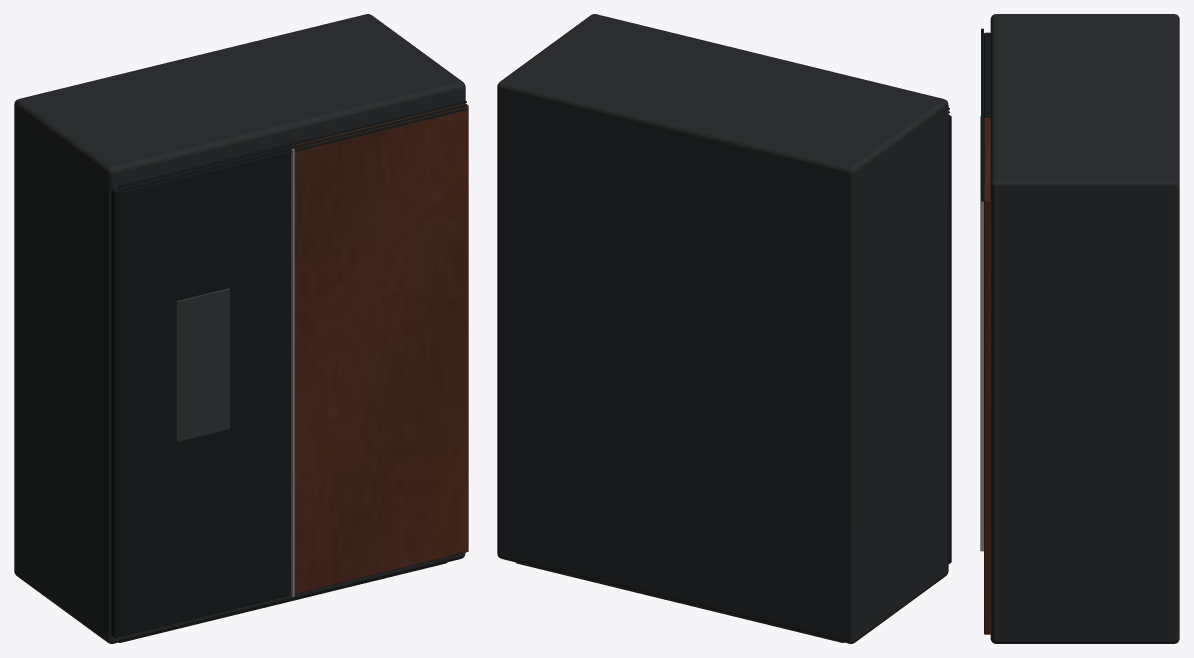
The model's file is nordica-floriana-idro-gres-gres-corten.glb.
3 views of the same model, side by side, from view 1: azimuth 30°, elevation 25°; view 2: azimuth 150°, elevation 25°; view 3: azimuth 270°, elevation 25° (orthographic). The views are drawn at different scales.
Visible parts, largest first — view 1: Corpo posteriore.002, Pannello laterale.001, Porta vetro.002, Vetro focolare.001, Profilo verticale.002, Griglia superiore.004, Griglia superiore.003, Griglia superiore.005; view 2: Corpo posteriore.002, Porta vetro.002; view 3: Corpo posteriore.002, Pannello laterale.001, Profilo verticale.002, Porta vetro.002, Griglia superiore.003.
Boxes of the visible parts, x1,y1,x2,y2 form: Corpo posteriore.002: [14, 14, 465, 643]; Pannello laterale.001: [290, 103, 468, 593]; Porta vetro.002: [111, 147, 289, 637]; Vetro focolare.001: [176, 288, 230, 441]; Profilo verticale.002: [291, 148, 294, 596]; Griglia superiore.004: [118, 104, 466, 190]; Griglia superiore.003: [118, 100, 466, 187]; Griglia superiore.005: [118, 107, 466, 194]; Corpo posteriore.002: [497, 14, 948, 643]; Porta vetro.002: [948, 115, 951, 563]; Corpo posteriore.002: [990, 14, 1179, 643]; Pannello laterale.001: [984, 117, 991, 634]; Profilo verticale.002: [980, 116, 983, 551]; Porta vetro.002: [984, 32, 990, 117]; Griglia superiore.003: [981, 28, 983, 194].
Size of the model in its own units: 0.854 by 1.1 by 0.424.
5 materials, 1 textured.
